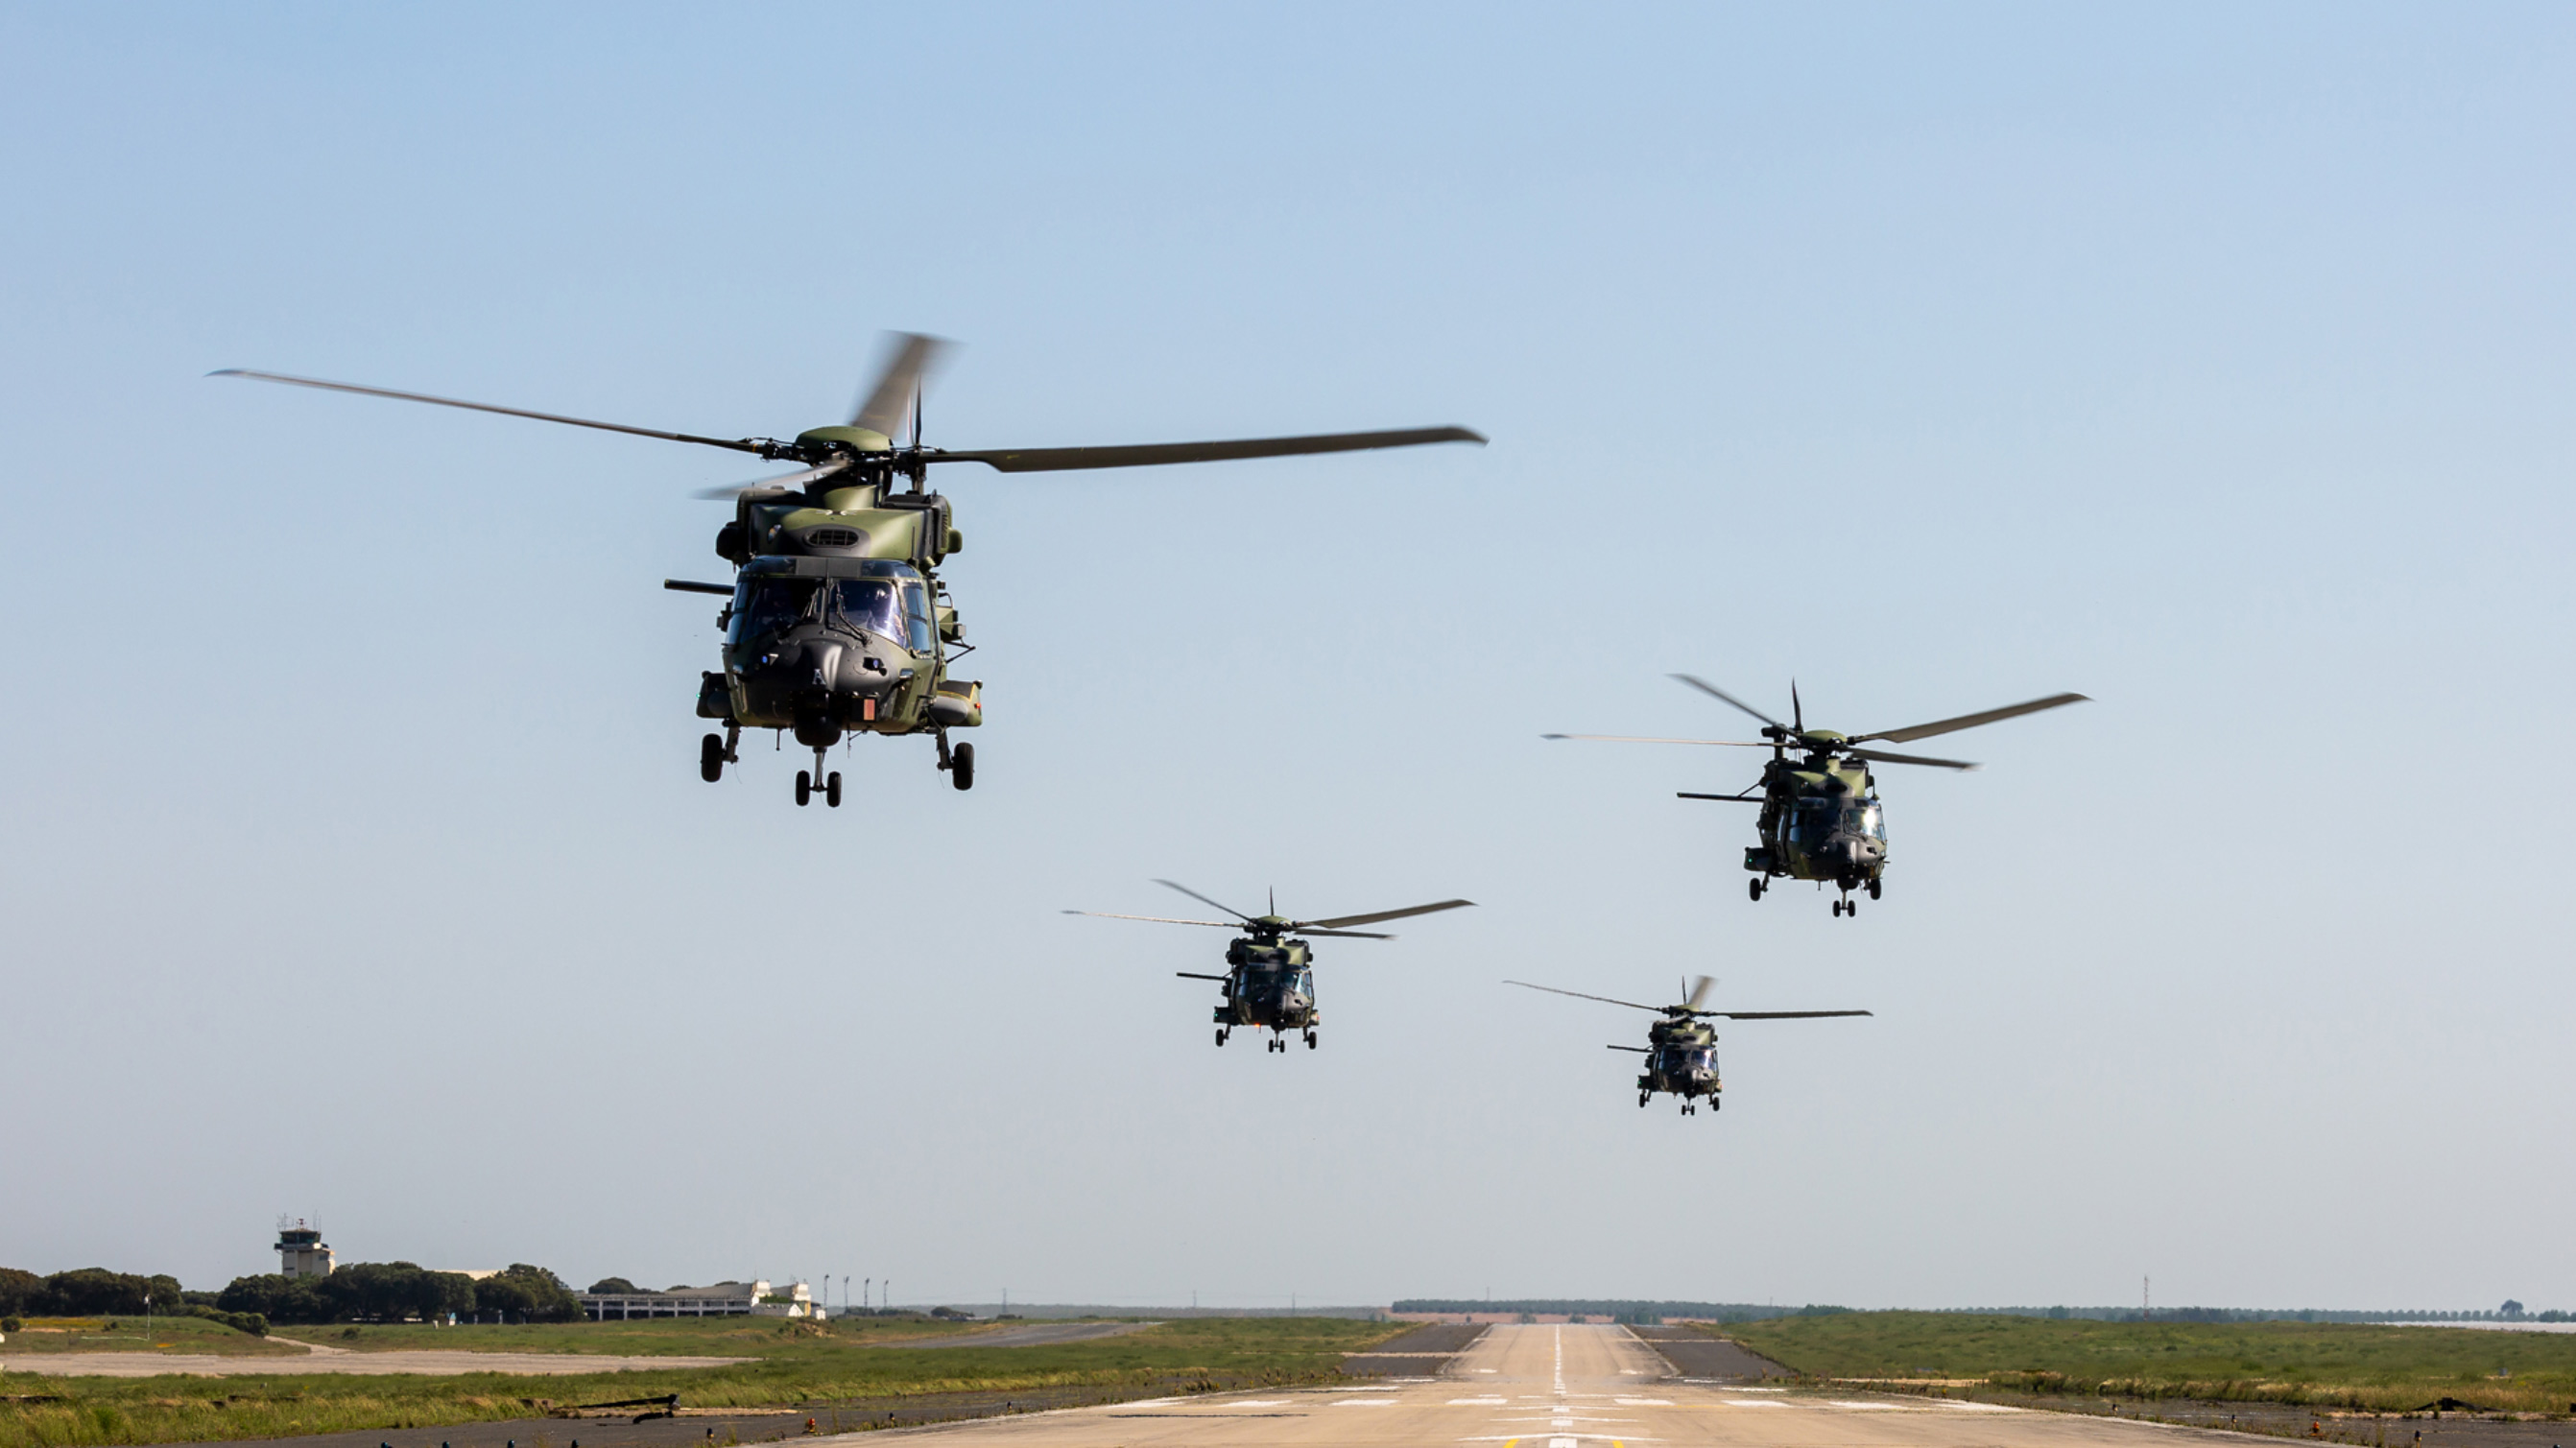heli: (209, 334, 1486, 803), (1543, 675, 2091, 921), (1065, 877, 1474, 1059), (1490, 974, 1874, 1116)
